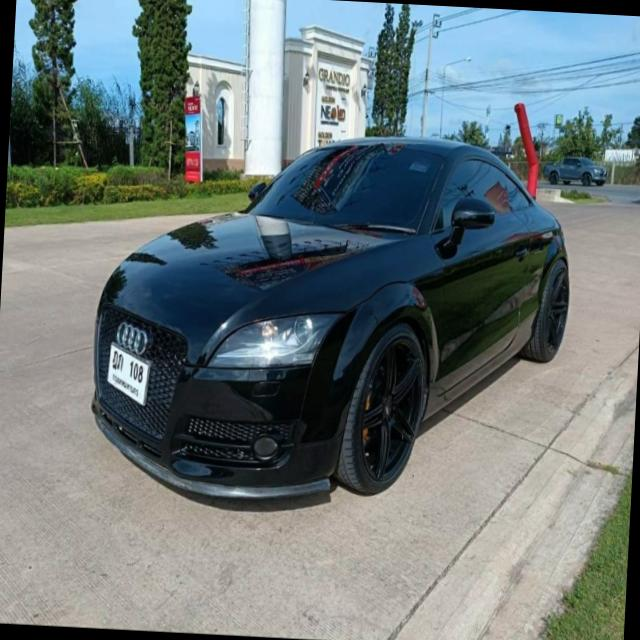license_plate: (104, 338, 155, 409)
